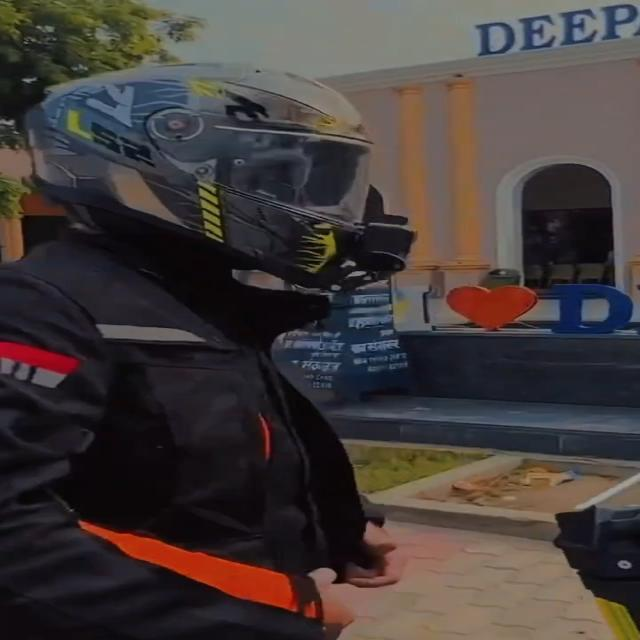Helmet_Wearer: (0, 60, 394, 274)
Jacket_Wearer: (5, 214, 385, 640)
Person: (0, 56, 398, 640)
